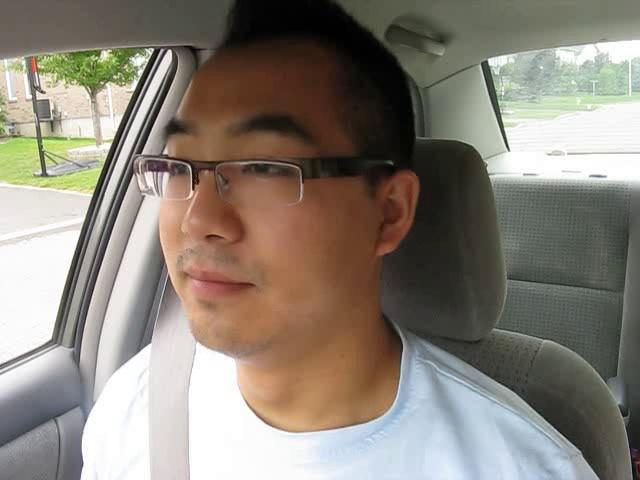no_yawn: (162, 248, 269, 316)
open_eyeL: (148, 147, 204, 195)
open_eyeR: (220, 143, 309, 202)
